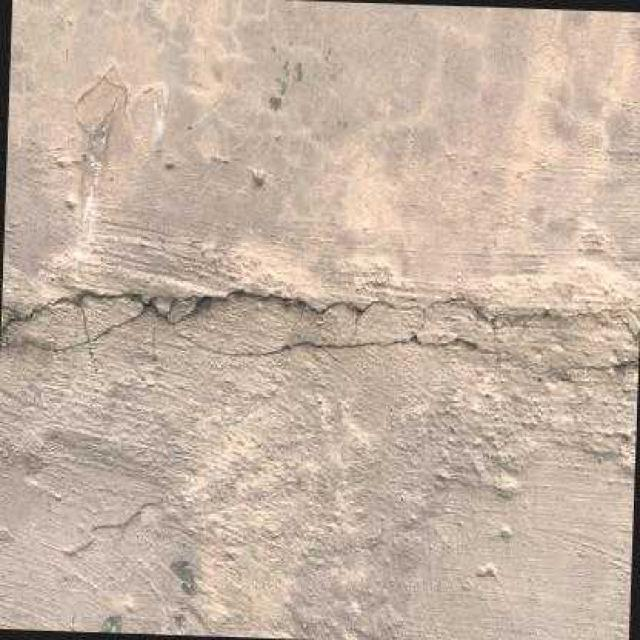D00: (0, 283, 514, 337)
